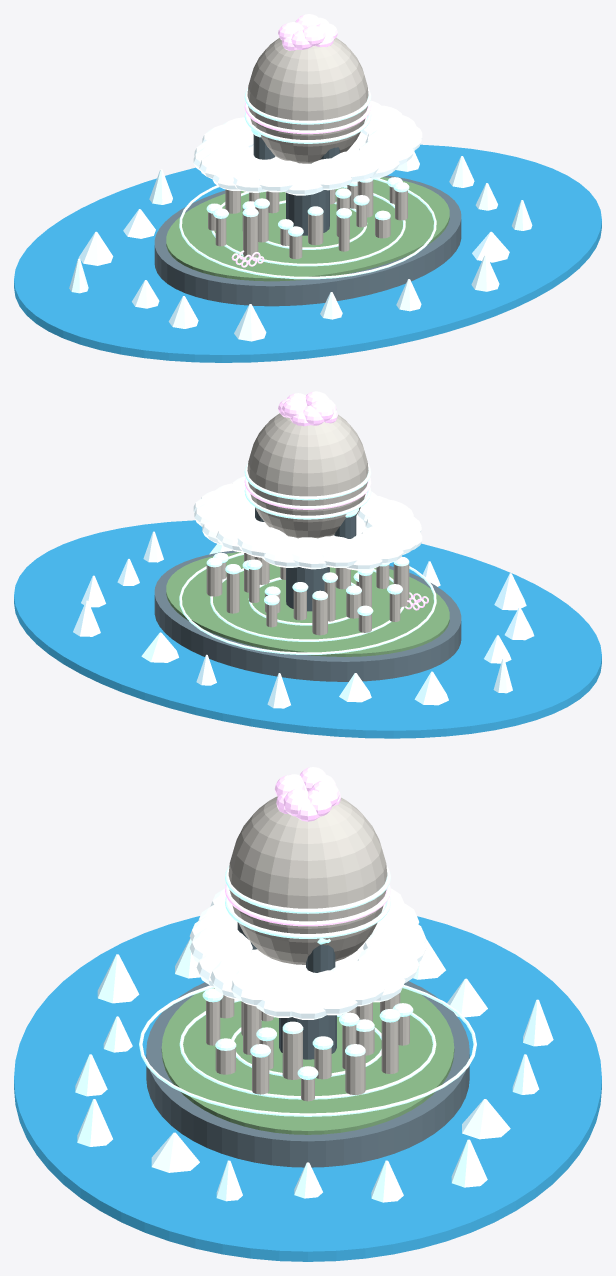
File: egghead-future-island-system.glb
The picture shows the model from 3 angles, top to bottom: view 1: azimuth 30°, elevation 25°; view 2: azimuth 150°, elevation 25°; view 3: azimuth 270°, elevation 25°; orthographic projection. The views are drawn at different scales.
Parts seen in each view (by area): view 1: Egghead cold-sea stage, Fabriophase climate lawn, Cracked egg laboratory, Egghead natural shelf, Future city route ring 6.6, Fabriophase central factory, Island cloud 15, Island cloud 18, Island cloud 12, Island cloud 17, Island cloud 09, Island cloud 14 (+21 smaller); view 2: Egghead cold-sea stage, Fabriophase climate lawn, Cracked egg laboratory, Egghead natural shelf, Future city route ring 6.6, Island cloud 09, Fabriophase central factory, Island cloud 06, Island cloud 08, Island cloud 03, Island cloud 11, Island cloud 12 (+21 smaller); view 3: Egghead cold-sea stage, Fabriophase climate lawn, Cracked egg laboratory, Egghead natural shelf, Future city route ring 6.6, Island cloud 21, Island cloud 03, Future city route ring 5.0, Island cloud 18, Island cloud 02, Fabriophase central factory, Egghead iceberg 12 (+30 smaller).
Part boxes in pixels (box(x1,y1,x2,y2)): Egghead cold-sea stage: box(14, 144, 601, 362); Fabriophase climate lawn: box(166, 177, 449, 281); Cracked egg laboratory: box(247, 37, 368, 163); Egghead natural shelf: box(154, 175, 461, 306); Future city route ring 6.6: box(179, 178, 436, 279); Fabriophase central factory: box(286, 190, 329, 235); Island cloud 15: box(259, 160, 302, 192); Island cloud 18: box(331, 150, 379, 182); Island cloud 12: box(199, 149, 255, 178); Island cloud 17: box(311, 158, 351, 190); Island cloud 09: box(202, 123, 253, 147); Island cloud 14: box(233, 161, 270, 192); Egghead cold-sea stage: box(14, 520, 601, 738); Fabriophase climate lawn: box(166, 552, 449, 656); Cracked egg laboratory: box(247, 413, 368, 538); Egghead natural shelf: box(154, 550, 461, 681); Future city route ring 6.6: box(179, 552, 436, 654); Island cloud 09: box(317, 536, 358, 567); Fabriophase central factory: box(286, 567, 329, 611); Island cloud 06: box(237, 526, 287, 557); Island cloud 08: box(291, 537, 327, 569); Island cloud 03: box(194, 502, 250, 526); Island cloud 11: box(352, 533, 403, 564); Island cloud 12: box(361, 524, 416, 554); Egghead cold-sea stage: box(14, 916, 601, 1261); Fabriophase climate lawn: box(161, 988, 454, 1134); Cracked egg laboratory: box(228, 796, 387, 964); Egghead natural shelf: box(146, 981, 469, 1167); Future city route ring 6.6: box(139, 985, 476, 1116); Island cloud 21: box(231, 961, 287, 1006); Island cloud 03: box(331, 961, 384, 1006); Future city route ring 5.0: box(179, 999, 436, 1099); Island cloud 18: box(189, 926, 252, 962); Island cloud 02: box(312, 970, 358, 1015); Fabriophase central factory: box(279, 1015, 336, 1059); Egghead iceberg 12: box(97, 954, 139, 1003).
Bounding box in the file's own units: 32.48 × 13.7 × 23.2.
